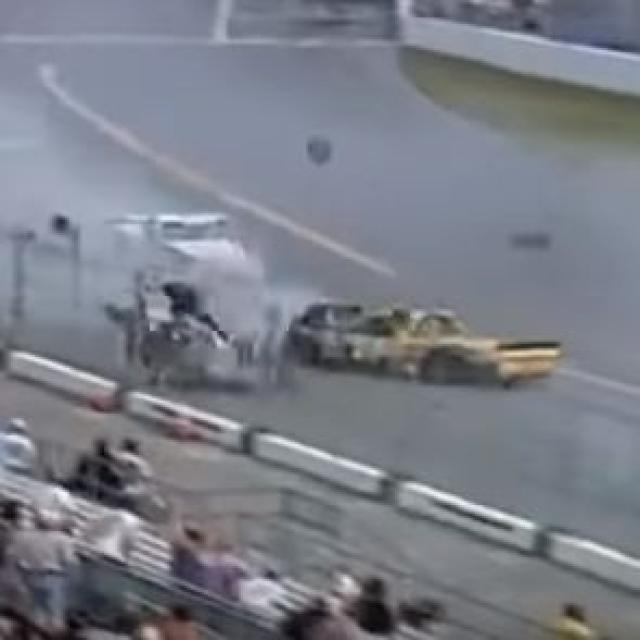traffic_incident: (280, 288, 553, 388)
